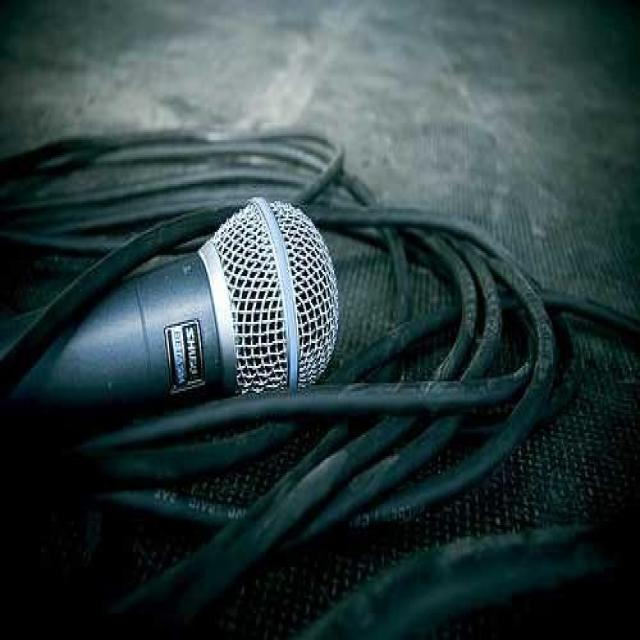microphone: (12, 193, 342, 422)
